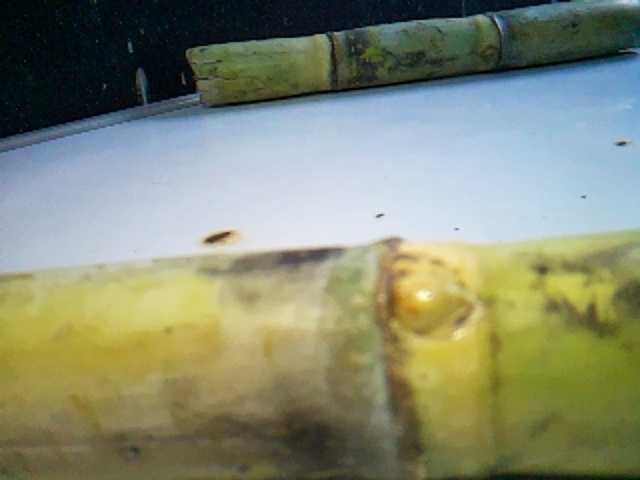Good Sugarcane: (2, 227, 637, 480)
Node: (351, 234, 528, 478)
